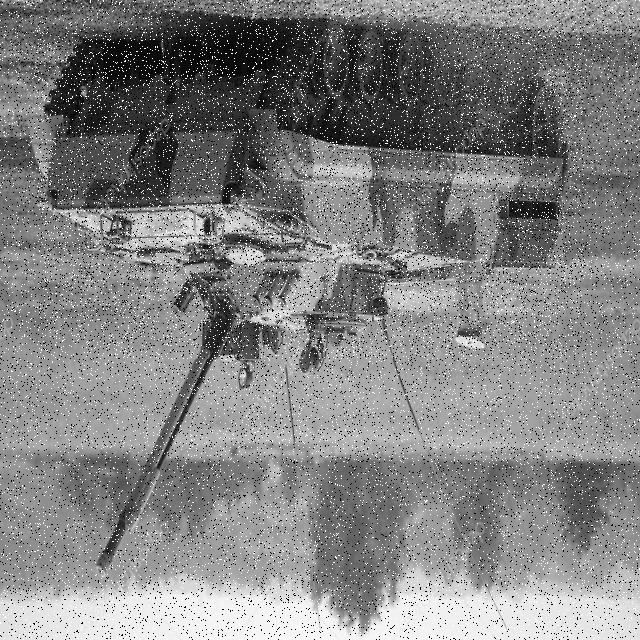MIL_MBT: (37, 28, 584, 358)
